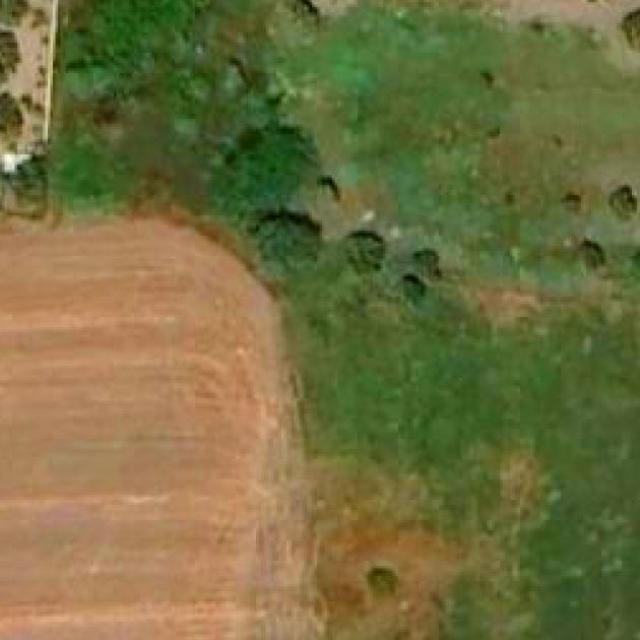Tree: (253, 210, 322, 280), (337, 231, 388, 274), (281, 0, 320, 46), (608, 185, 637, 223), (220, 60, 246, 98), (366, 568, 401, 596), (618, 9, 640, 52), (410, 249, 439, 279), (403, 271, 427, 305), (0, 28, 14, 75), (581, 243, 601, 271), (0, 0, 22, 20)
